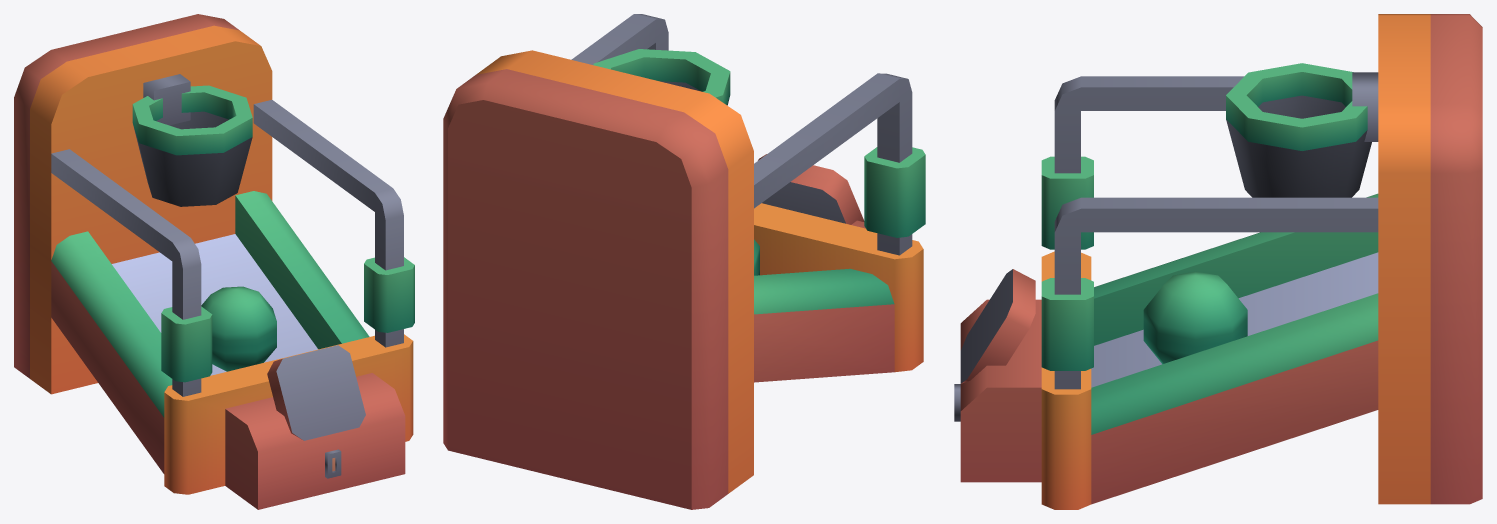
Rendered from basketball-game.obj.
3 renders of one model, left to right at view 1: azimuth 30°, elevation 25°; view 2: azimuth 150°, elevation 25°; view 3: azimuth 270°, elevation 25°, orthographic. The views are drawn at different scales.
Visible parts, largest first — view 1: basketball-game, ball; view 2: basketball-game; view 3: basketball-game, ball.
Part boxes in pixels (box(x1,y1,x2,y2)): basketball-game: box(14, 14, 414, 509); ball: box(201, 286, 276, 371); basketball-game: box(443, 14, 925, 509); basketball-game: box(954, 14, 1482, 509); ball: box(1143, 271, 1247, 364).
Size of the model in its own units: 0.65 by 0.8 by 1.01.
